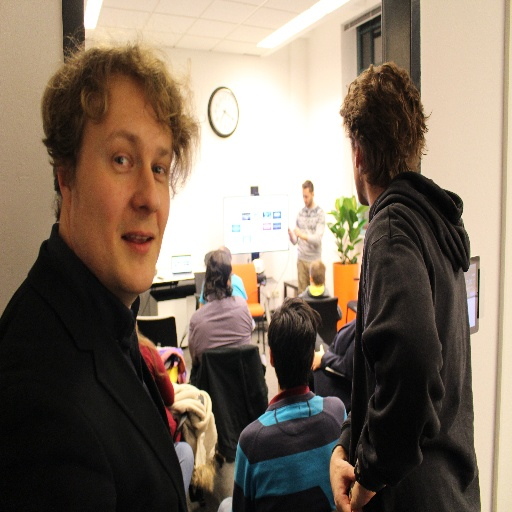hand: (333, 440, 361, 511), (350, 478, 376, 510), (311, 341, 324, 368), (293, 224, 301, 237), (285, 227, 293, 239)
